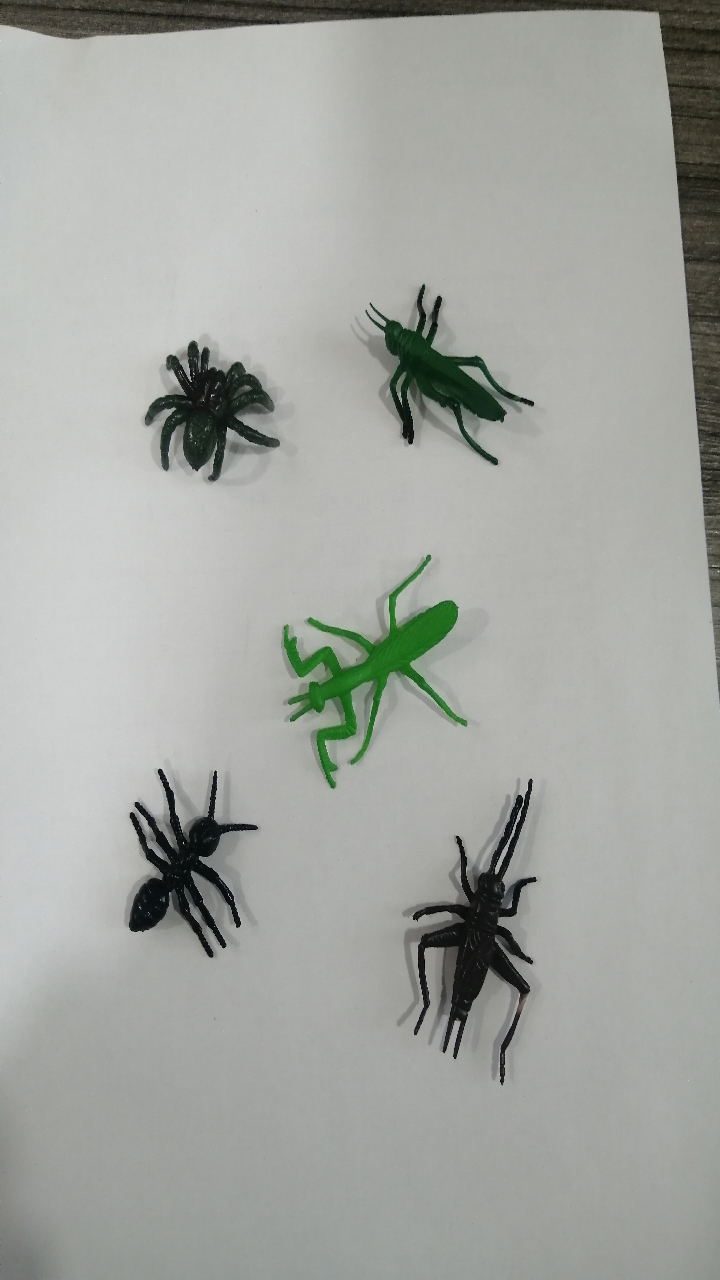intruso: (366, 765, 577, 1120), (232, 529, 483, 811), (340, 245, 557, 491), (78, 743, 263, 979), (117, 306, 311, 522)
